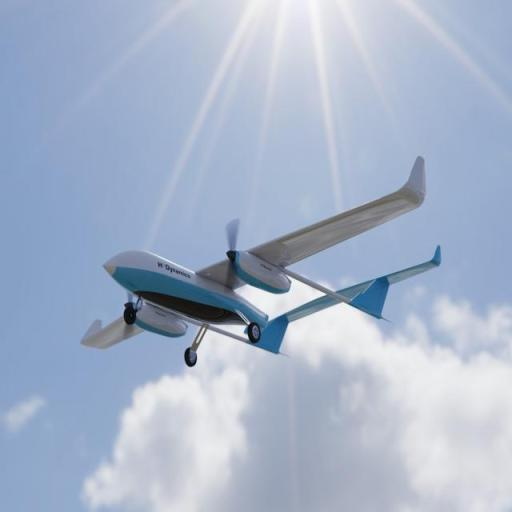uav: (57, 147, 468, 374)
